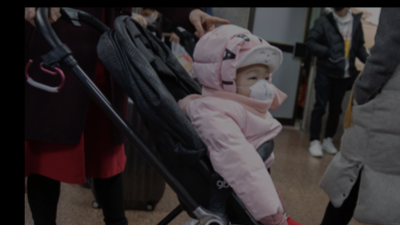with_mask: (236, 64, 275, 113)
